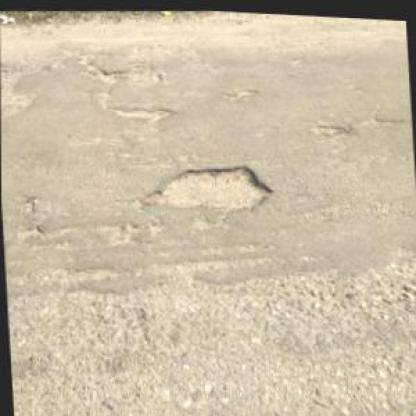pothole: (140, 156, 276, 216), (78, 57, 129, 84), (102, 101, 174, 119)
